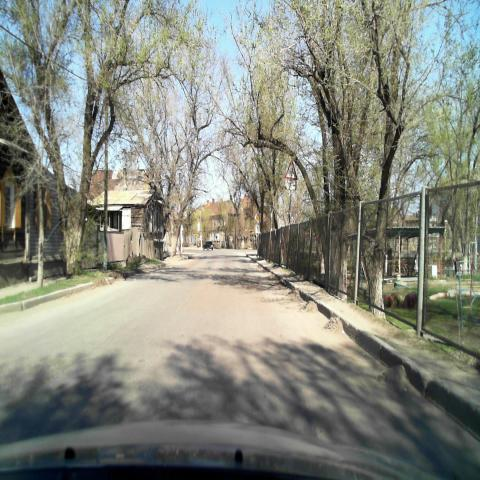8_1_3: (285, 180, 295, 191)
